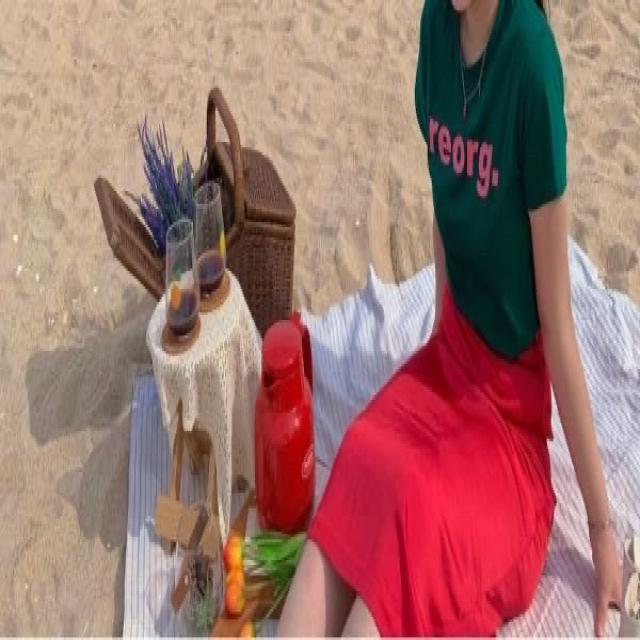shortsleeve: (414, 0, 567, 359)
skirt: (306, 283, 558, 640)
